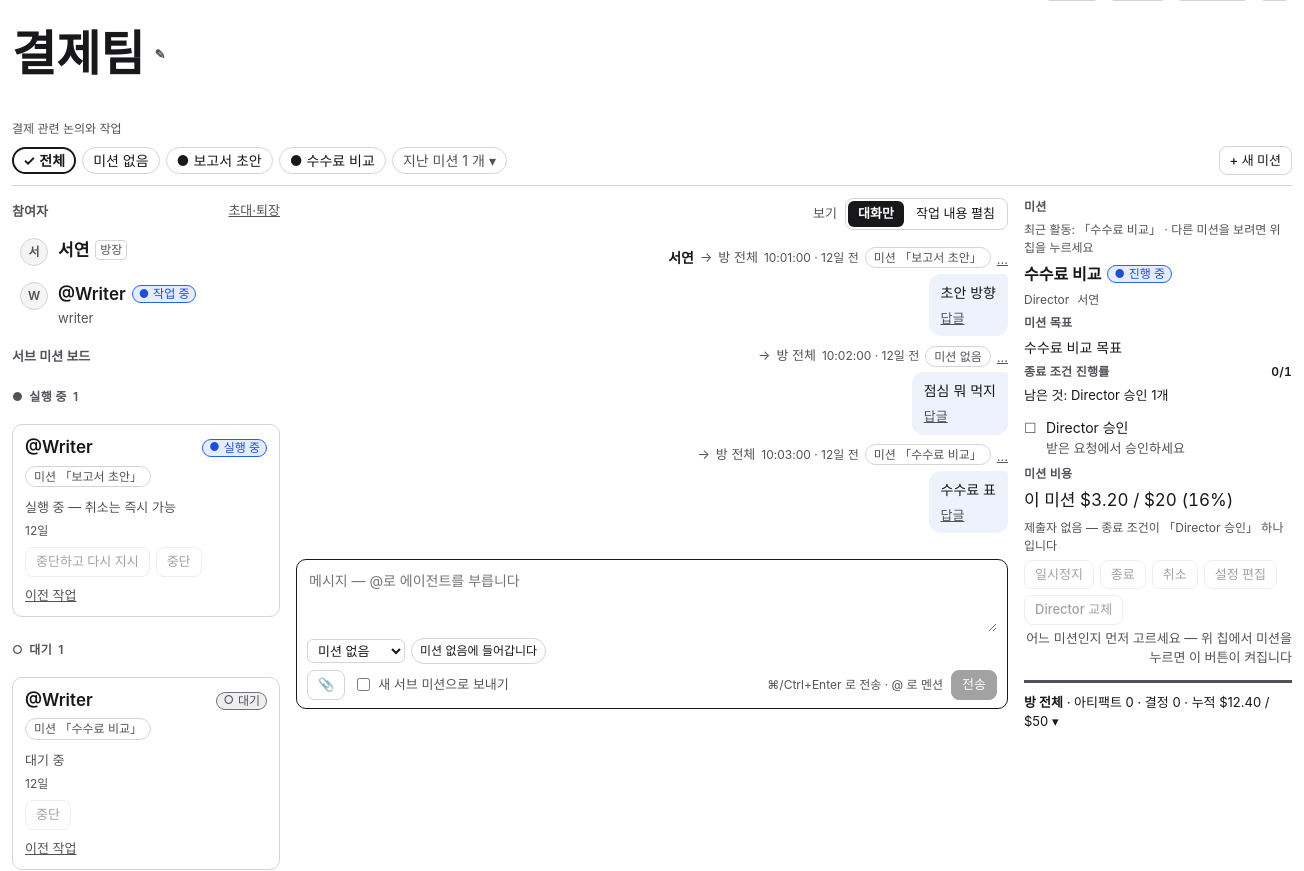
S7 — 상단 · 배너 · 좁은 화면 › 방 전체 칸은 기본 접힘 — 접혀도 머리줄에 수를 적는다
Expected: the element with test id "room-title" is shown, [12,24,169,83]
Expected: the 1st element with test id "message-card" is shown, [668,247,1008,336]
Click the button with test id "room-panel-toggle" at (1158, 712), box [1024,691,1292,734]
(page scrolled)
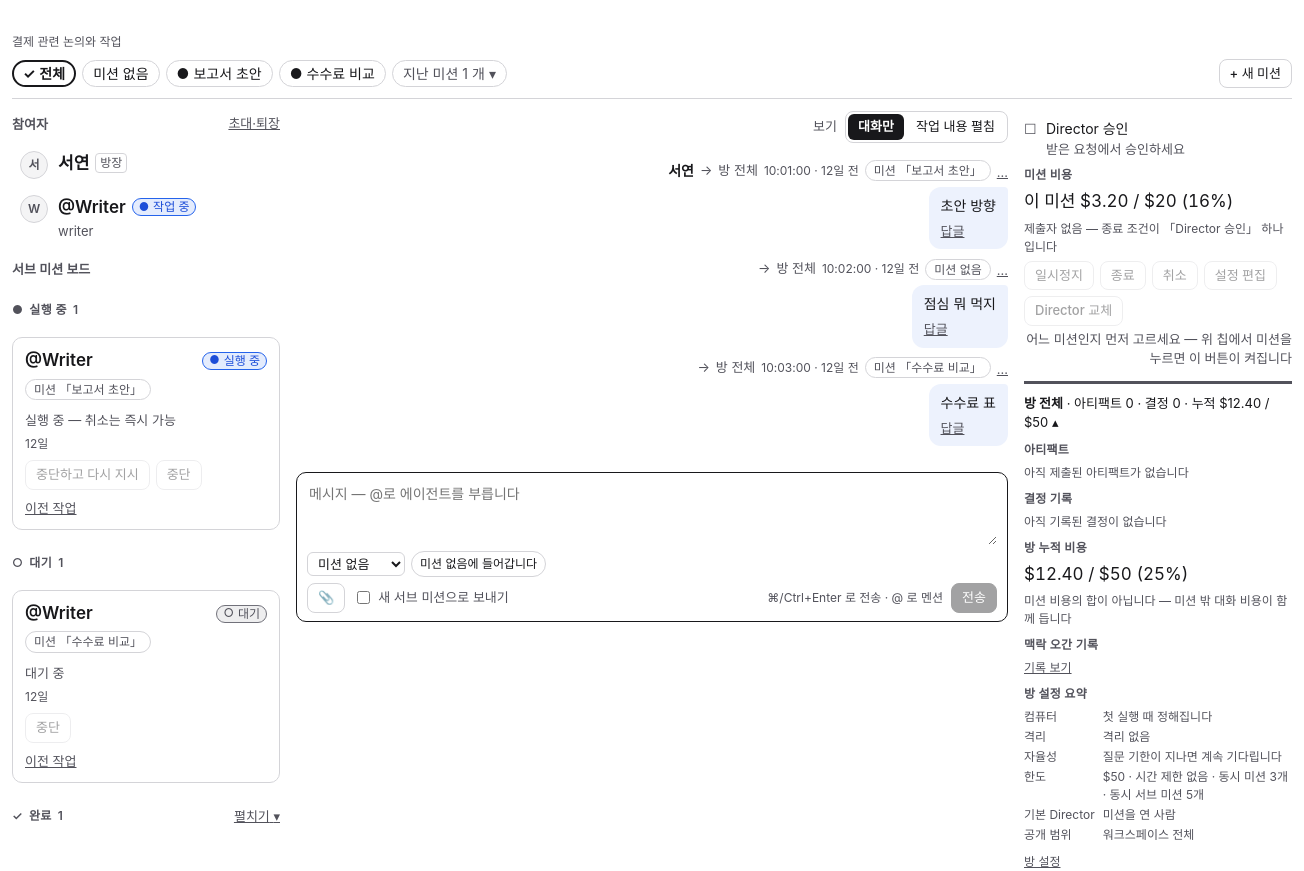
Now the text with test id "room-cost-not-sum" reads "미션 비용의 합이 아닙니다 — 미션 밖 대화 비용이 함께 듭니다", box [1024,593,1287,626]
